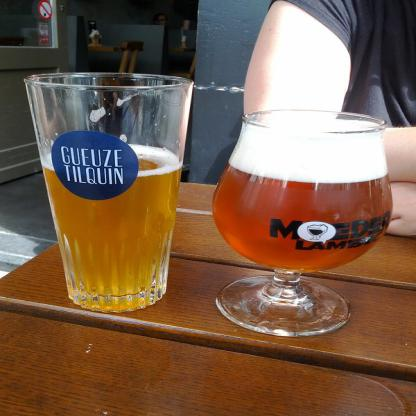drinking: (24, 72, 194, 313), (213, 110, 392, 336)
